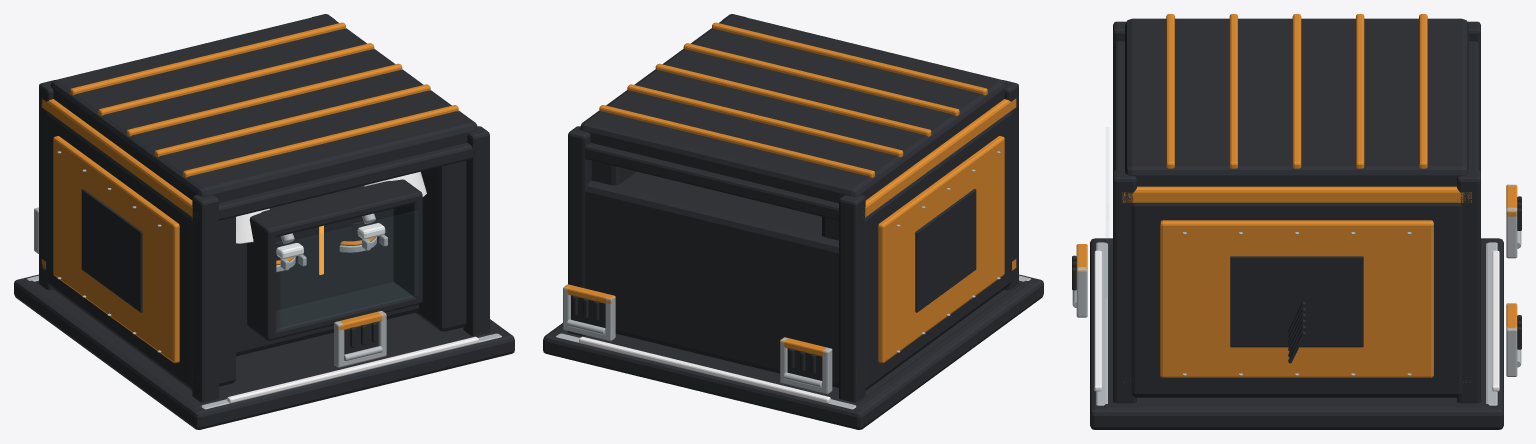
Rendered from assembler.glb.
The picture shows the model from 3 angles, left to right: view 1: azimuth 30°, elevation 25°; view 2: azimuth 150°, elevation 25°; view 3: azimuth 270°, elevation 25°; orthographic projection. The views are drawn at different scales.
Visible parts, largest first — view 1: Main_Body, Arm_B_Mesh, Arm_A_Mesh; view 2: Main_Body; view 3: Main_Body.
Part boxes in pixels (x1,y1,x2,y2): Main_Body: (14,14,514,429); Arm_B_Mesh: (339,213,387,252); Arm_A_Mesh: (276,233,306,272); Main_Body: (543,14,1043,429); Main_Body: (1072,14,1521,429).
Bounding box in the file's own units: 6.94 × 4.03 × 6.41.
